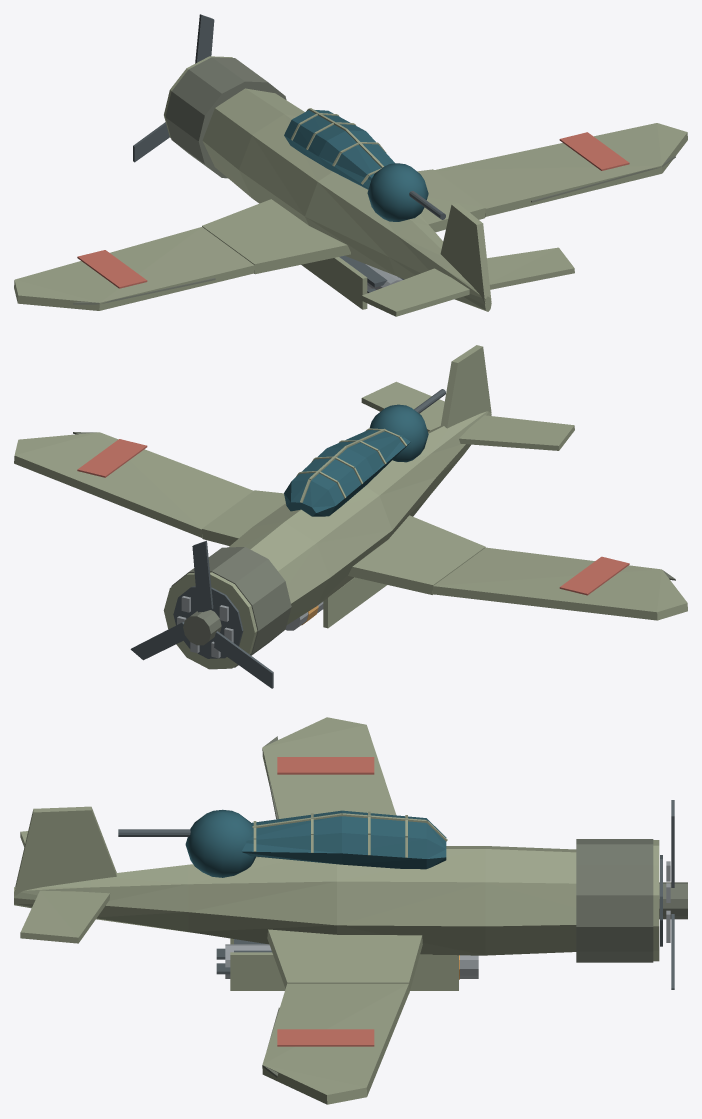
Rendered from ENE_Ww2TorpedoBomber.fbx.
The picture shows the model from 3 angles, top to bottom: view 1: azimuth 30°, elevation 25°; view 2: azimuth 150°, elevation 25°; view 3: azimuth 270°, elevation 25°; orthographic projection. The views are drawn at different scales.
Visible parts, largest first — view 1: Fuselage, WingOuter.001, WingOuter, WingInner, RadialEngineCowling, GreenhouseCanopy, TailFin, Tailplane, DorsalTurret, Tailplane.001, WingInner.001, OpenBombBayDoor (+5 smaller); view 2: Fuselage, WingOuter.001, WingOuter, WingInner, GreenhouseCanopy, RadialEngineCowling, Tailplane, TailFin, CowlingFrontRing, WingInner.001, DorsalTurret, Tailplane.001 (+8 smaller); view 3: Fuselage, WingOuter.001, RadialEngineCowling, GreenhouseCanopy, WingOuter, WingInner.001, TailFin, DorsalTurret, OpenBombBayDoor.001, Tailplane.001, WingRecognitionStripe, WingRecognitionStripe.001 (+3 smaller).
Part boxes in pixels (left/top/right/bottom): Fuselage: left=202, top=88, right=491, bottom=311; WingOuter.001: left=434, top=123, right=687, bottom=216; WingOuter: left=14, top=227, right=254, bottom=310; WingInner: left=202, top=199, right=350, bottom=274; RadialEngineCowling: left=165, top=57, right=286, bottom=178; GreenhouseCanopy: left=284, top=110, right=394, bottom=189; TailFin: left=440, top=203, right=491, bottom=302; Tailplane: left=361, top=268, right=469, bottom=316; DorsalTurret: left=367, top=163, right=428, bottom=221; Tailplane.001: left=487, top=247, right=574, bottom=289; WingInner.001: left=417, top=169, right=485, bottom=232; OpenBombBayDoor: left=301, top=257, right=367, bottom=309; Fuselage: left=229, top=411, right=491, bottom=624; WingOuter.001: left=14, top=432, right=253, bottom=537; WingOuter: left=433, top=547, right=687, bottom=620; WingInner: left=348, top=515, right=485, bottom=594; GreenhouseCanopy: left=284, top=428, right=410, bottom=516; RadialEngineCowling: left=171, top=547, right=291, bottom=667; Tailplane: left=459, top=415, right=574, bottom=450; TailFin: left=440, top=345, right=491, bottom=428; CowlingFrontRing: left=163, top=572, right=257, bottom=669; WingInner.001: left=202, top=490, right=285, bottom=545; DorsalTurret: left=369, top=404, right=428, bottom=462; Tailplane.001: left=361, top=381, right=444, bottom=431; Fuselage: left=14, top=846, right=576, bottom=955; WingOuter.001: left=262, top=983, right=409, bottom=1104; RadialEngineCowling: left=576, top=839, right=653, bottom=962; GreenhouseCanopy: left=241, top=810, right=446, bottom=869; WingOuter: left=262, top=717, right=396, bottom=818; WingInner.001: left=267, top=929, right=422, bottom=992; TailFin: left=14, top=806, right=116, bottom=895; DorsalTurret: left=185, top=809, right=255, bottom=877; OpenBombBayDoor.001: left=230, top=952, right=458, bottom=990; Tailplane.001: left=20, top=890, right=110, bottom=943; WingRecognitionStripe: left=277, top=757, right=374, bottom=774; WingRecognitionStripe.001: left=277, top=1029, right=374, bottom=1046.
Size of the model in its own units: 360 by 78.3 by 271.
